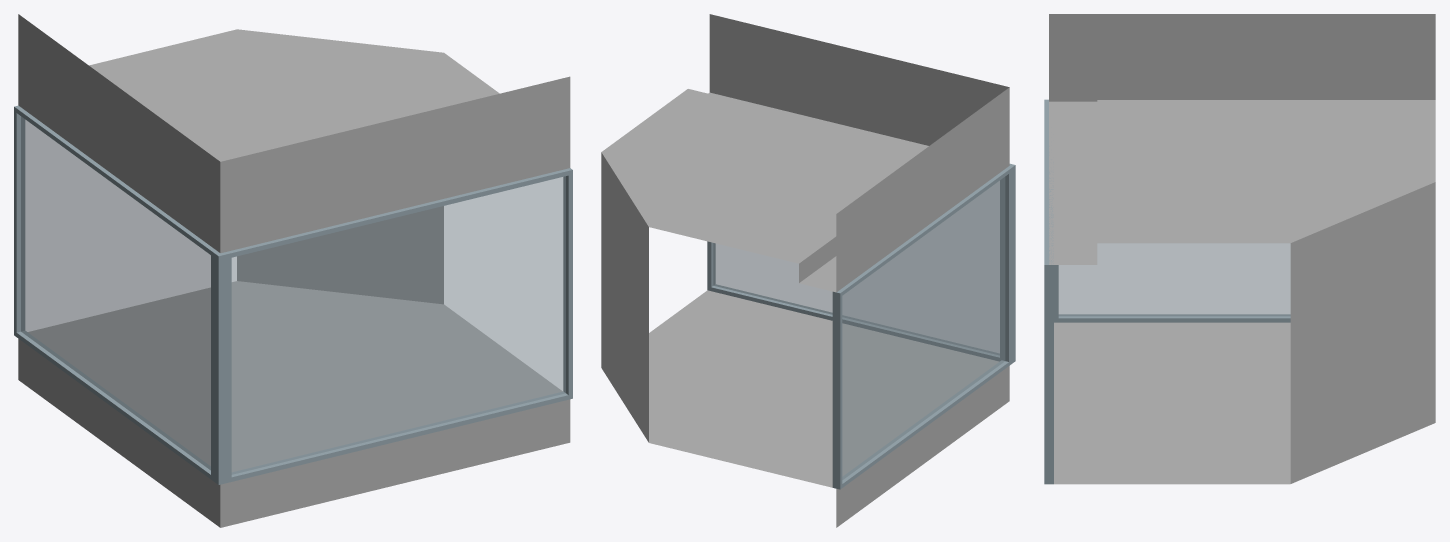
3 renders of one model, left to right at view 1: azimuth 30°, elevation 25°; view 2: azimuth 150°, elevation 25°; view 3: azimuth 270°, elevation 25°, orthographic. The views are drawn at different scales.
Parts seen in each view (by area): view 1: officeBuilding01_windowCorner; view 2: officeBuilding01_windowCorner; view 3: officeBuilding01_windowCorner.
Part boxes in pixels (x1,y1,x2,y2): officeBuilding01_windowCorner: (14,14,572,527); officeBuilding01_windowCorner: (601,14,1015,527); officeBuilding01_windowCorner: (1044,14,1435,484).
Bounding box in the file's own units: 405 × 400 × 405.
